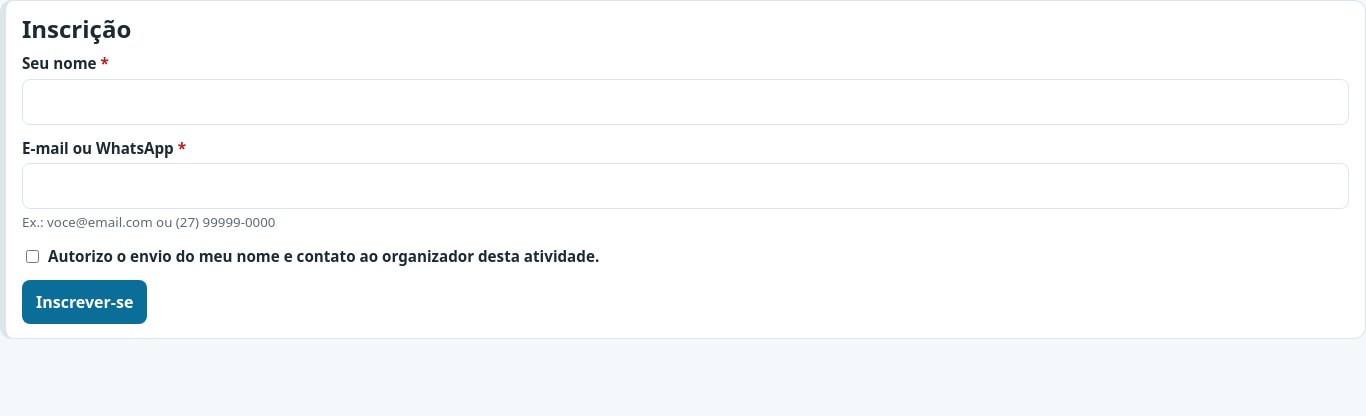
FormularioInscricao › não envia sem consentimento e com contato inválido
In the field labelled "Seu nome *": (686, 102) [22,79,1349,125], type "Bia"
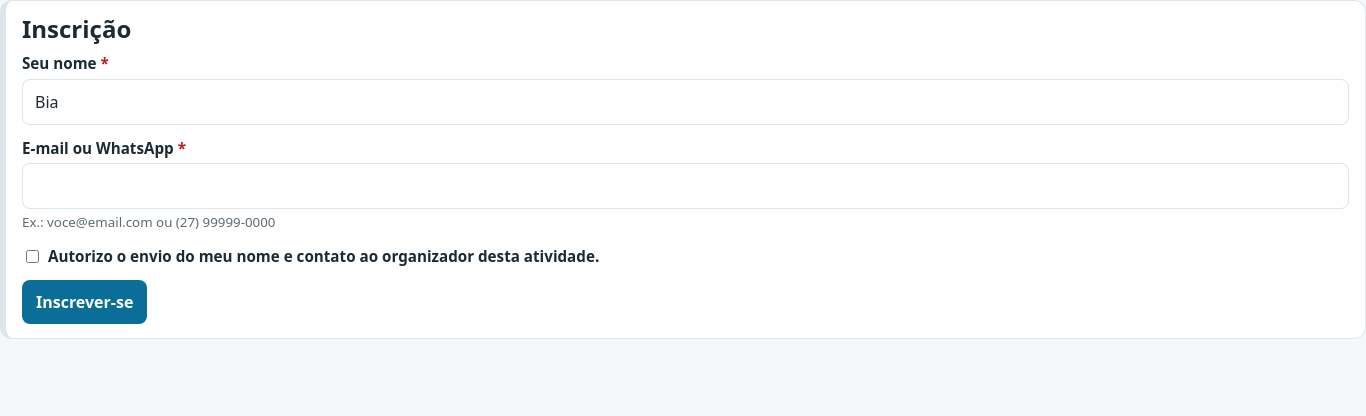
In the field labelled "E-mail ou WhatsApp *": (686, 186) [22,163,1349,209], type "99999-1234"
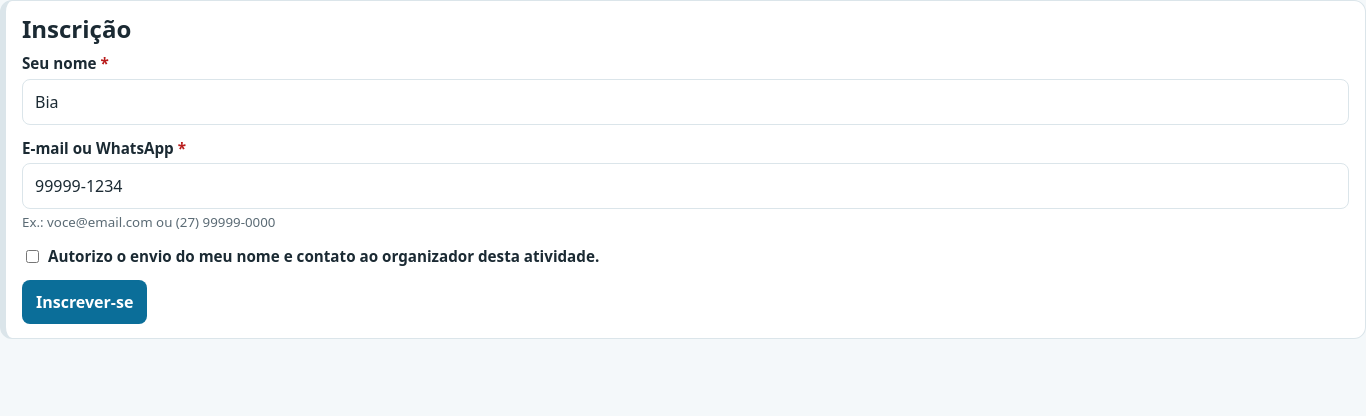
Click the button "Inscrever-se": (85, 302) [22,280,147,324]
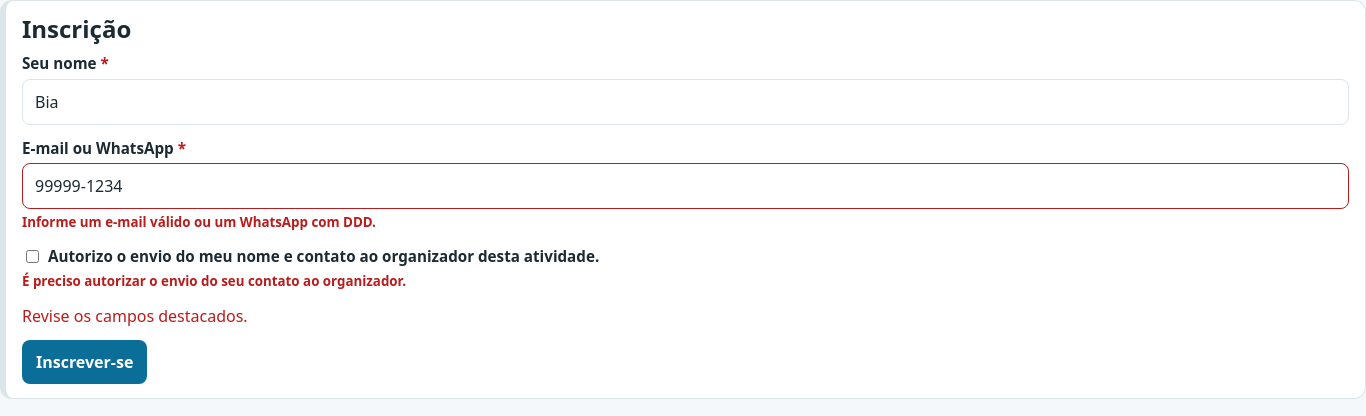
Now the text "Informe um e-mail válido ou um WhatsApp com DDD." is shown, box [22,213,376,231]
Now the text "É preciso autorizar o envio do seu contato ao organizador." is shown, box [22,272,406,290]
